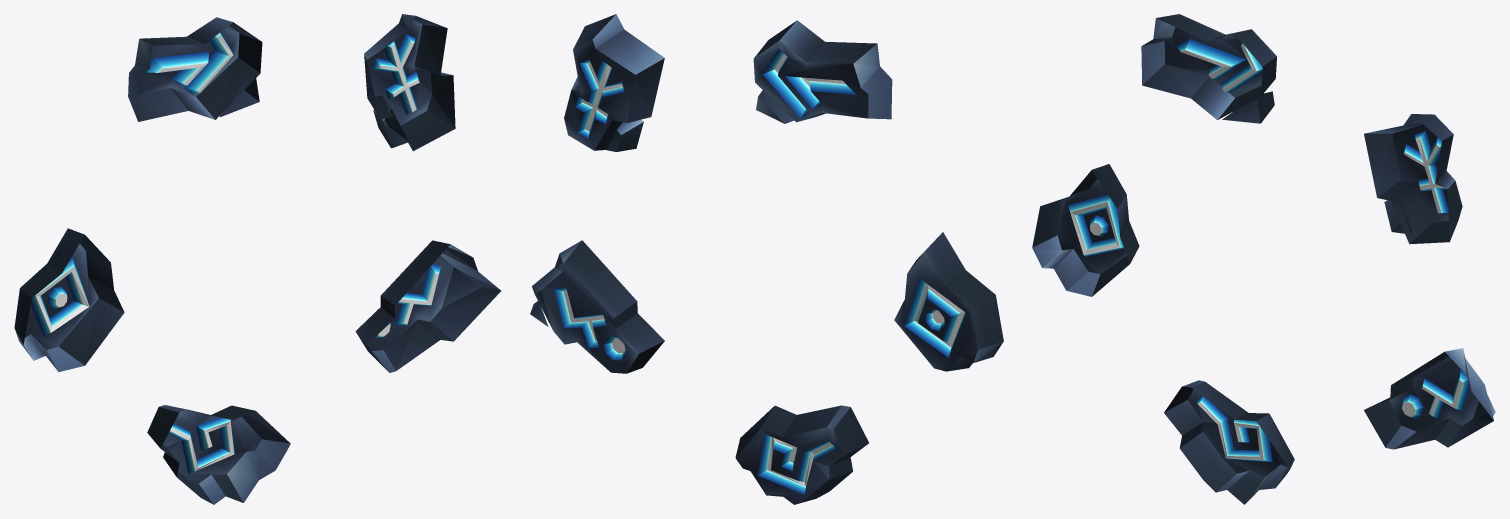
The model's file is particles_rotation.fbx.
3 views of the same model, side by side, from view 1: azimuth 30°, elevation 25°; view 2: azimuth 150°, elevation 25°; view 3: azimuth 330°, elevation 25° (orthographic). The views are drawn at different scales.
Visible parts, largest first — view 1: rune1, rune2, rune4, rune5, rune3; view 2: rune1, rune3, rune4, rune2, rune5; view 3: rune1, rune5, rune3, rune2, rune4.
Part boxes in pixels (box(x1,y1,x2,y2)): rune1: box(128, 17, 262, 121); rune2: box(14, 228, 124, 371); rune4: box(355, 240, 501, 372); rune5: box(147, 405, 290, 504); rune3: box(364, 14, 455, 151); rune1: box(753, 20, 892, 123); rune3: box(564, 14, 664, 151); rune4: box(530, 240, 664, 373); rune2: box(894, 232, 1003, 371); rune5: box(735, 405, 868, 504); rune1: box(1141, 14, 1276, 123); rune5: box(1164, 380, 1294, 504); rune3: box(1364, 114, 1462, 244); rune2: box(1032, 164, 1139, 296); rune4: box(1364, 348, 1495, 449).
Size of the model in its own units: 8.86 by 8.58 by 0.6339.
1 material, 1 textured.
